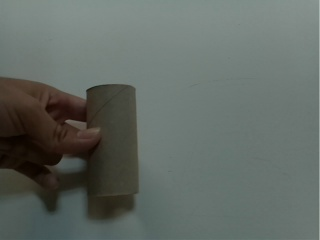rollo papel: (85, 83, 143, 200)
